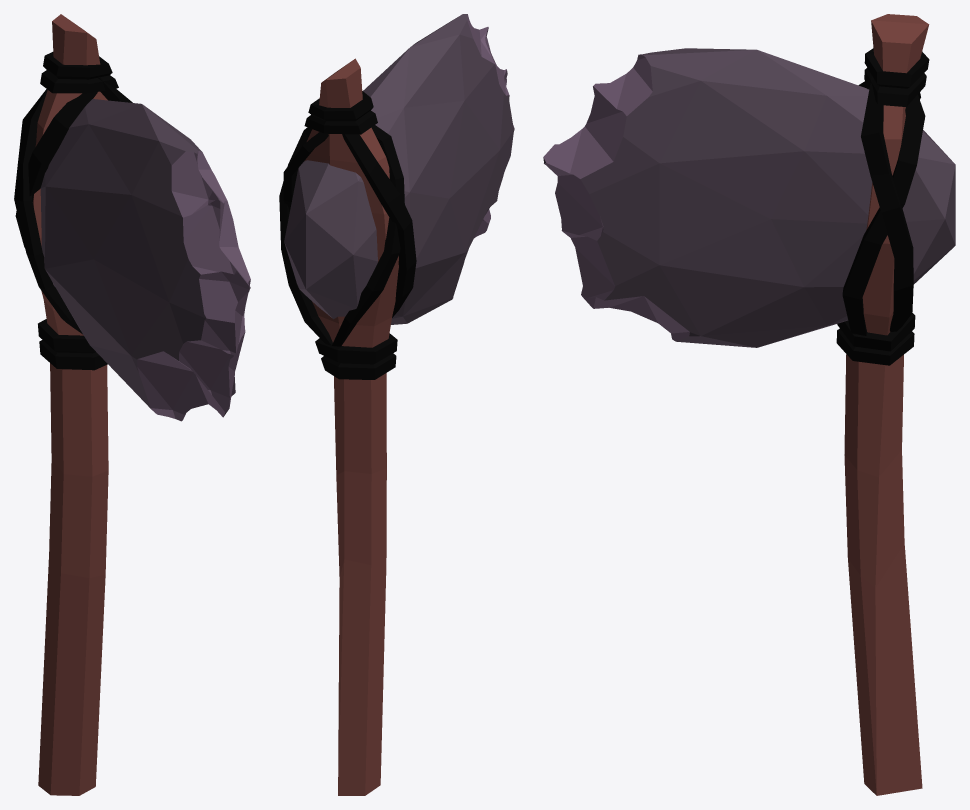
Rendered from Axe_Stone.fbx.
3 views of the same model, side by side, from view 1: azimuth 30°, elevation 25°; view 2: azimuth 150°, elevation 25°; view 3: azimuth 270°, elevation 25° (orthographic). The views are drawn at different scales.
Visible parts, largest first — view 1: PoorMan Axe 02; view 2: PoorMan Axe 02; view 3: PoorMan Axe 02.
Part boxes in pixels (x1,y1,x2,y2): PoorMan Axe 02: (14,14,250,795); PoorMan Axe 02: (279,14,514,795); PoorMan Axe 02: (543,14,955,795).
Bounding box in the file's own units: 15.53 × 85.71 × 41.52.
